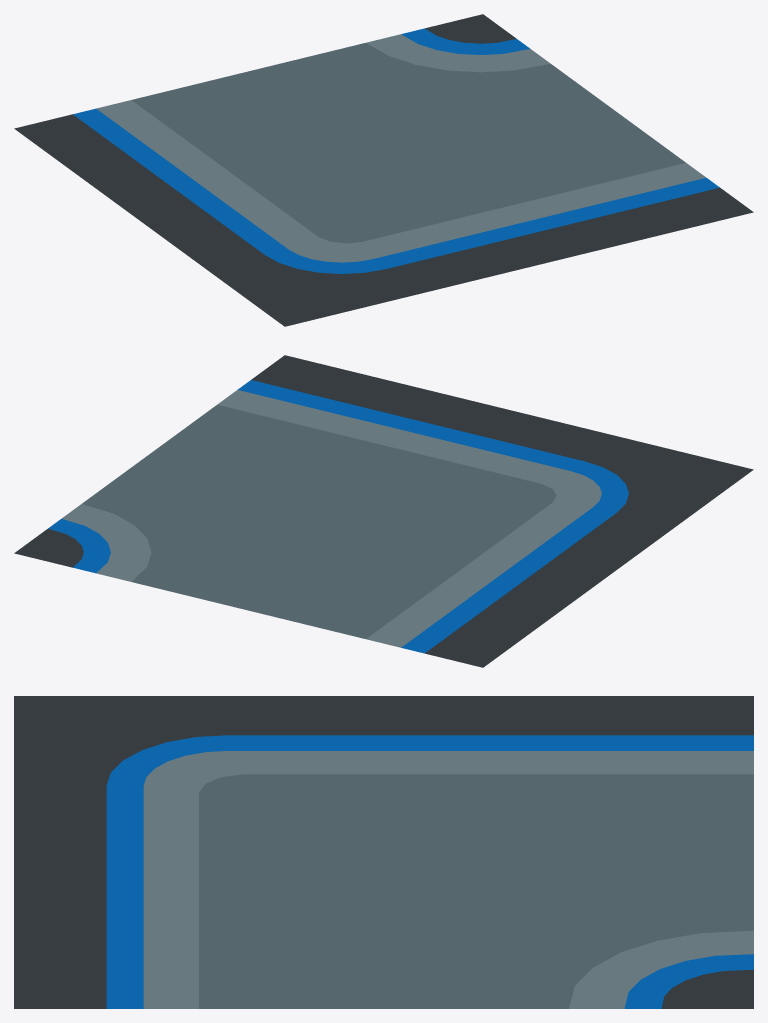
The model's file is Ceiling_type_C_019.fbx.
3 renders of one model, top to bottom at view 1: azimuth 30°, elevation 25°; view 2: azimuth 150°, elevation 25°; view 3: azimuth 270°, elevation 25°, orthographic. The views are drawn at different scales.
Visible parts, largest first — view 1: Ceiling_type_C_019; view 2: Ceiling_type_C_019; view 3: Ceiling_type_C_019.
Part boxes in pixels (bbox=[...]): Ceiling_type_C_019: bbox=[14, 14, 753, 326]; Ceiling_type_C_019: bbox=[14, 355, 753, 667]; Ceiling_type_C_019: bbox=[14, 696, 753, 1008].
Size of the model in its own units: 400 by 400 by 5.66.
